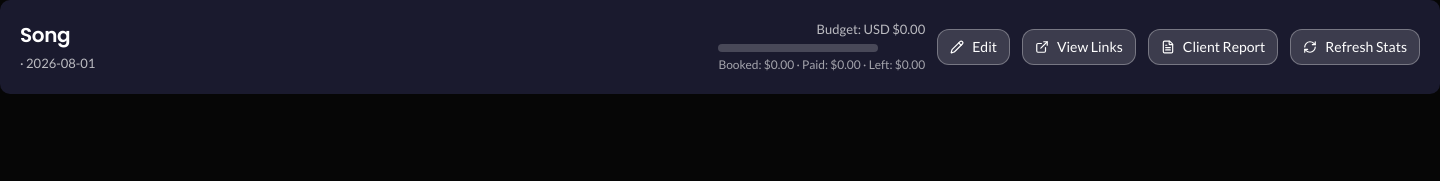
Scenario: <CampaignHeader /> › disables Cancel while a save is pending
The width and height of the screenshot is (1440, 181).
Click the button "Edit": {"x": 974, "y": 47} [937, 29, 1010, 65]
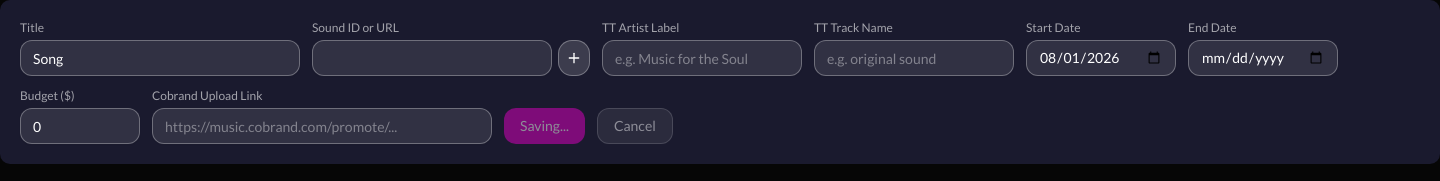
Now the button "Cancel" is disabled, box [597, 108, 673, 144]
